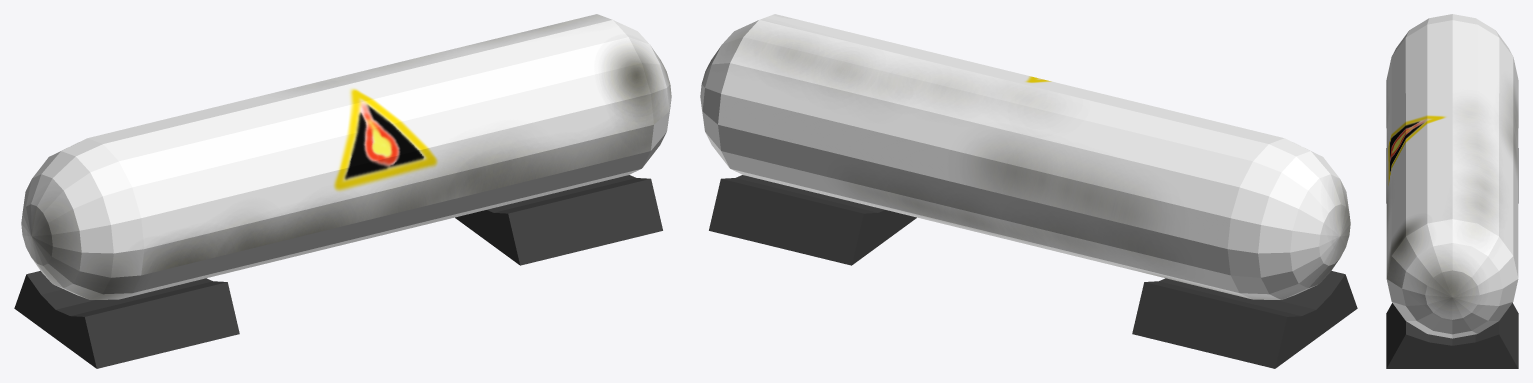
The model's file is fuel_tank.gltf.
3 views of the same model, side by side, from view 1: azimuth 30°, elevation 25°; view 2: azimuth 150°, elevation 25°; view 3: azimuth 270°, elevation 25° (orthographic). The views are drawn at different scales.
Parts seen in each view (by area): view 1: Sphere.002, Cube.139, Cube.140; view 2: Sphere.002, Cube.139, Cube.140; view 3: Sphere.002, Cube.140.
Part boxes in pixels (x1=…): Sphere.002: x1=21, y1=14, x2=671, y2=299; Cube.139: x1=14, y1=271, x2=239, y2=368; Cube.140: x1=455, y1=175, x2=662, y2=265; Sphere.002: x1=700, y1=14, x2=1350, y2=299; Cube.139: x1=1132, y1=271, x2=1357, y2=368; Cube.140: x1=709, y1=175, x2=916, y2=265; Sphere.002: x1=1386, y1=14, x2=1518, y2=338; Cube.140: x1=1386, y1=303, x2=1518, y2=368.
Bounding box in the file's own units: 30.69 × 8.54 × 6.98.
2 materials, 1 textured.
